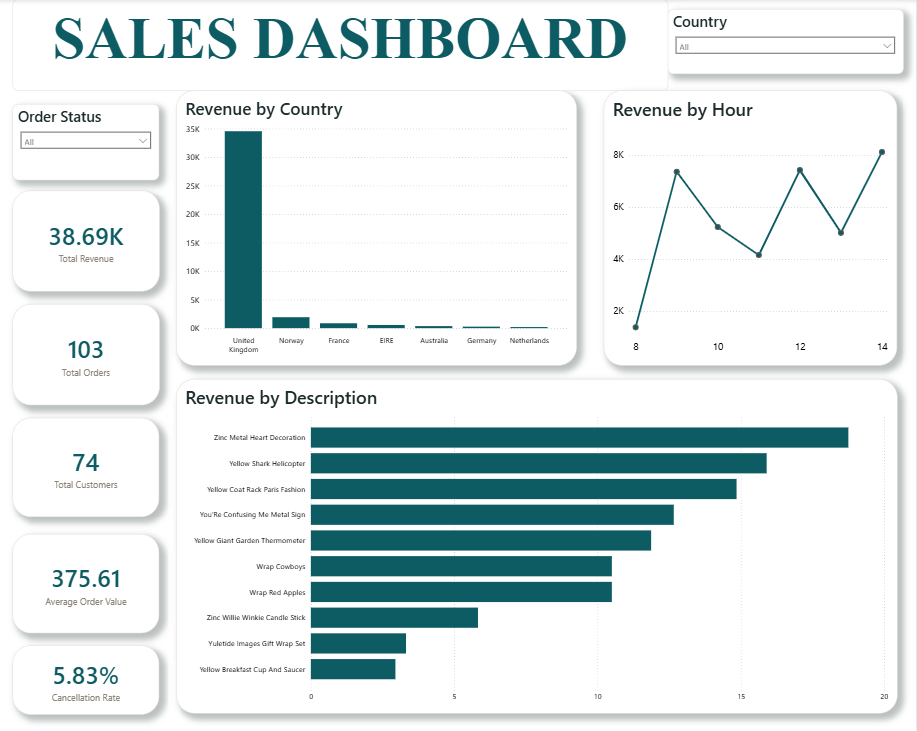

Layout of this report page (visuals, bound fields, positions):
{"tool":"powerbi","page":{"name":"Page 1","canvas":[1500,1200],"ordinal":0},"visuals":[{"type":"card","fields":{"Values":["Online Retail.Total Revenue"]},"box":[20.7,313.1,240.5,165.9],"z":0},{"type":"card","fields":{"Values":["Online Retail.Average Order Value"]},"box":[20,875,240,162.5],"z":1},{"type":"card","fields":{"Values":["Online Retail.Cancellation Rate"]},"box":[20,1056.7,240,113.3],"z":2},{"type":"card","fields":{"Values":["Online Retail.Total Orders"]},"box":[20.7,499.7,240.5,165.9],"z":3},{"type":"card","fields":{"Values":["Online Retail.Total Customers"]},"box":[20,685,240,162.5],"z":4},{"type":"clusteredColumnChart","title":"Revenue by Country","fields":{"Category":["Online Retail.Country"],"Y":["Online Retail.Total Revenue"]},"box":[287.5,150,655,450],"z":5},{"type":"clusteredBarChart","title":" Revenue by Description","fields":{"Category":["Online Retail.Description"],"Y":["Online Retail.Total Revenue"]},"box":[287.5,622.5,1180,547.5],"z":6},{"type":"slicer","title":"Country","fields":{"Values":["Online Retail.Country"]},"box":[1092,16,386,106],"z":8},{"type":"slicer","title":"Order Status","fields":{"Values":["Online Retail.Order status"]},"box":[20,172.5,240,125],"z":9},{"type":"textbox","box":[20,0,1072.5,150],"z":11},{"type":"lineChart","title":" Revenue by Hour","fields":{"Y":["Online Retail.Total Revenue"],"Category":["Online Retail.Hour"]},"box":[987.5,150,480,450],"z":12}]}

Visuals, with their boxes in screenshot pixels (x1, y1, x2, y2), scaled from the page's 1500x1200 canvas onto the 917x731 screenshot:
card - Online Retail.Total Revenue: locate(13, 191, 160, 292)
card - Online Retail.Average Order Value: locate(12, 533, 159, 632)
card - Online Retail.Cancellation Rate: locate(12, 644, 159, 713)
card - Online Retail.Total Orders: locate(13, 304, 160, 405)
card - Online Retail.Total Customers: locate(12, 417, 159, 516)
"Revenue by Country" clusteredColumnChart: locate(176, 91, 576, 366)
" Revenue by Description" clusteredBarChart: locate(176, 379, 897, 713)
"Country" slicer: locate(668, 10, 904, 74)
"Order Status" slicer: locate(12, 105, 159, 181)
textbox: locate(12, 0, 668, 91)
" Revenue by Hour" lineChart: locate(604, 91, 897, 366)
